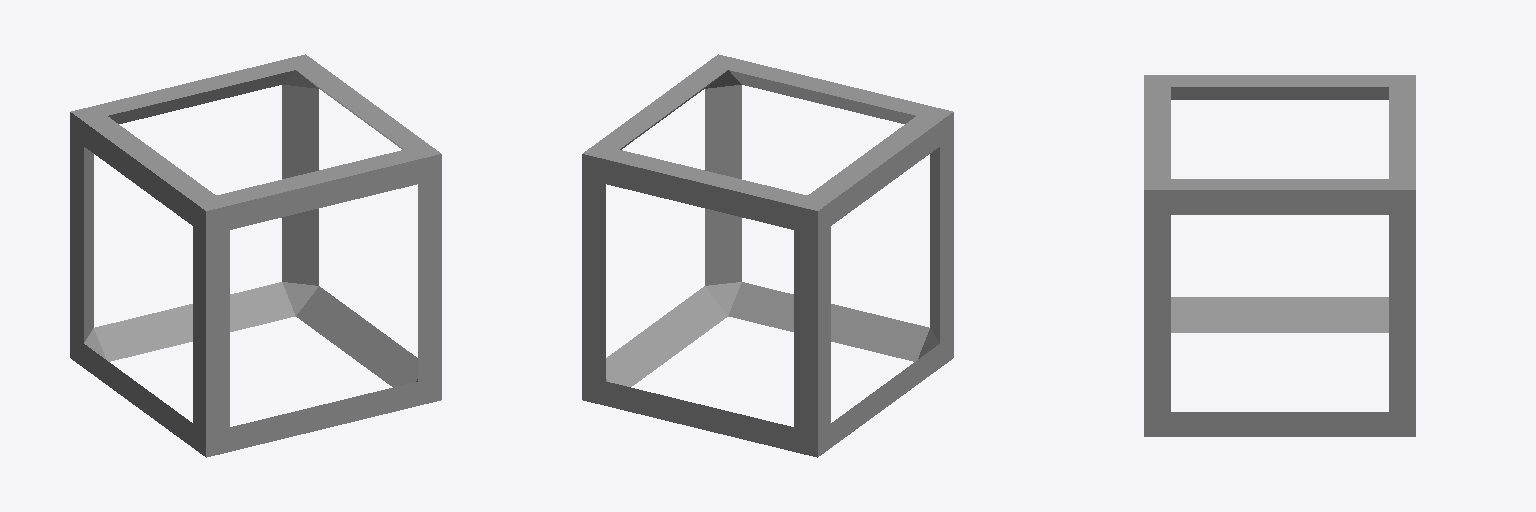
Rendered from initial_scaffold.obj.
3 renders of one model, left to right at view 1: azimuth 30°, elevation 25°; view 2: azimuth 150°, elevation 25°; view 3: azimuth 270°, elevation 25°, orthographic.
Visible parts, largest first — view 1: Cube; view 2: Cube; view 3: Cube.
Part boxes in pixels (x1,y1,x2,y2): Cube: (70, 54, 441, 457); Cube: (582, 54, 953, 457); Cube: (1144, 75, 1415, 436).
Size of the model in its own units: 1 by 1 by 1.